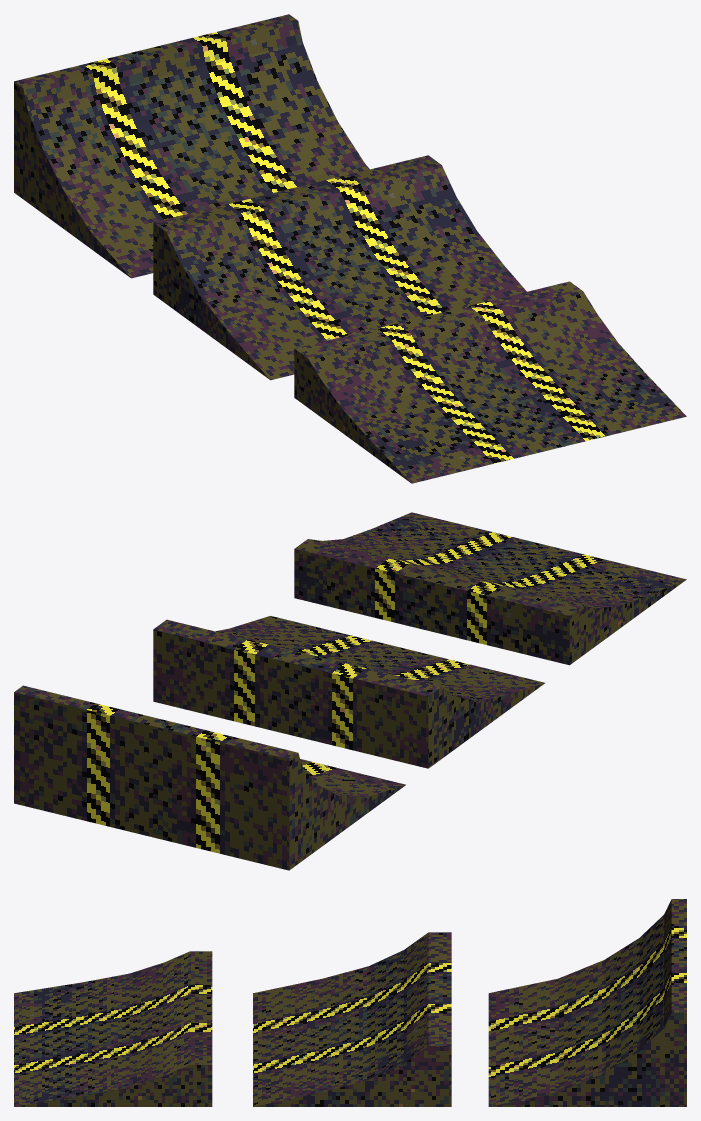
Rendered from new_ramps.fbx.
3 renders of one model, top to bottom at view 1: azimuth 30°, elevation 25°; view 2: azimuth 150°, elevation 25°; view 3: azimuth 270°, elevation 25°, orthographic. The views are drawn at different scales.
Parts seen in each view (by area): view 1: ramp.001, ramp, ramp.002; view 2: ramp.001, ramp, ramp.002; view 3: ramp.001, ramp, ramp.002.
Part boxes in pixels (x1,y1,x2,y2): ramp.001: (14,14,369,278); ramp: (153,155,526,380); ramp.002: (294,281,686,483); ramp.001: (14,685,405,870); ramp: (153,616,544,768); ramp.002: (294,512,686,665); ramp.001: (488,899,686,1106); ramp: (253,932,451,1106); ramp.002: (14,951,212,1106).
Size of the model in its own units: 1016 by 392 by 2543.
Materials: 2 (2 with a texture image).
